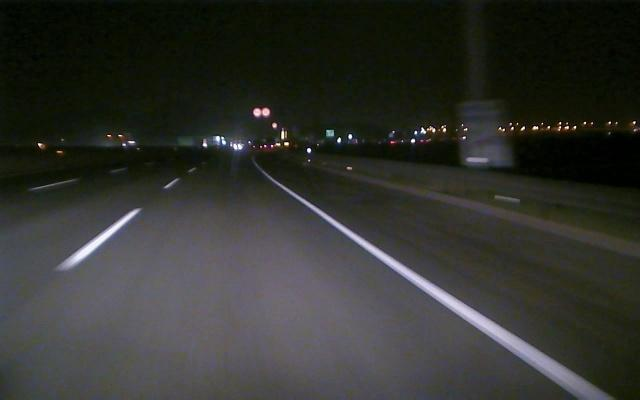lane: (274, 181, 615, 398), (51, 180, 176, 271), (30, 168, 128, 191)
